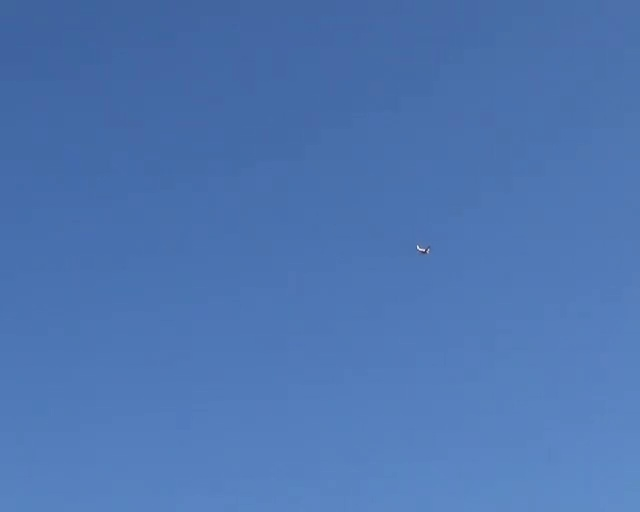AIRPLANE: (416, 243, 431, 254)
